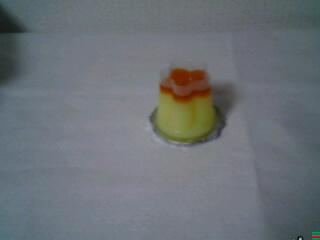001_classes: (130, 56, 224, 146)
